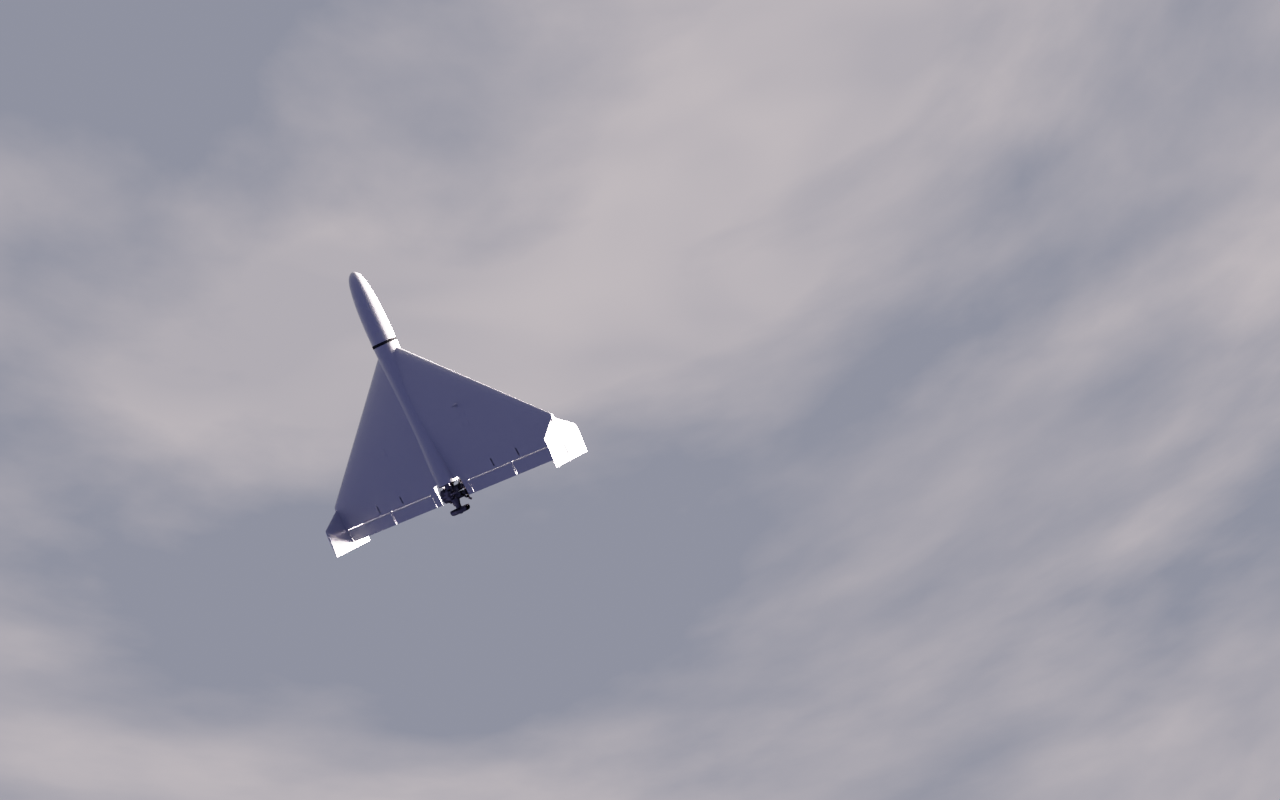shahed: (325, 272, 589, 559)
